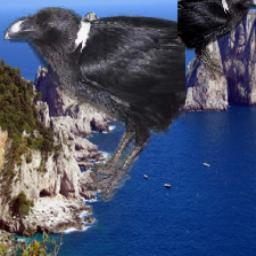Crow: (3, 7, 185, 203), (177, 0, 256, 82)
